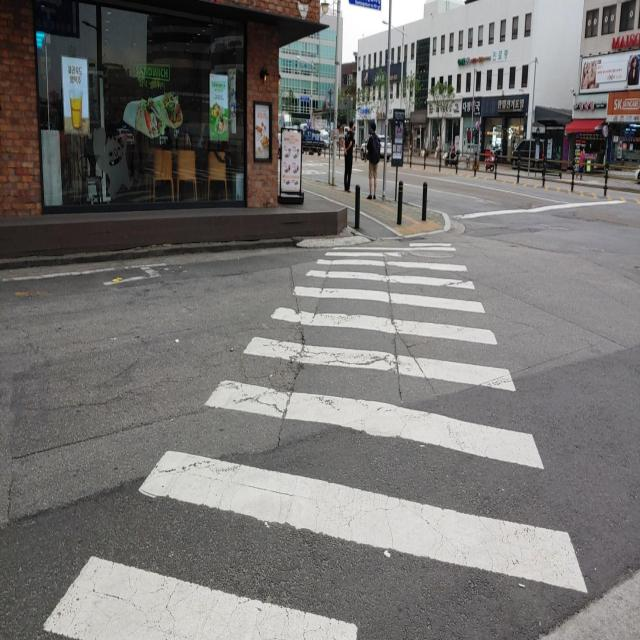횡단보도: (41, 240, 588, 639)
